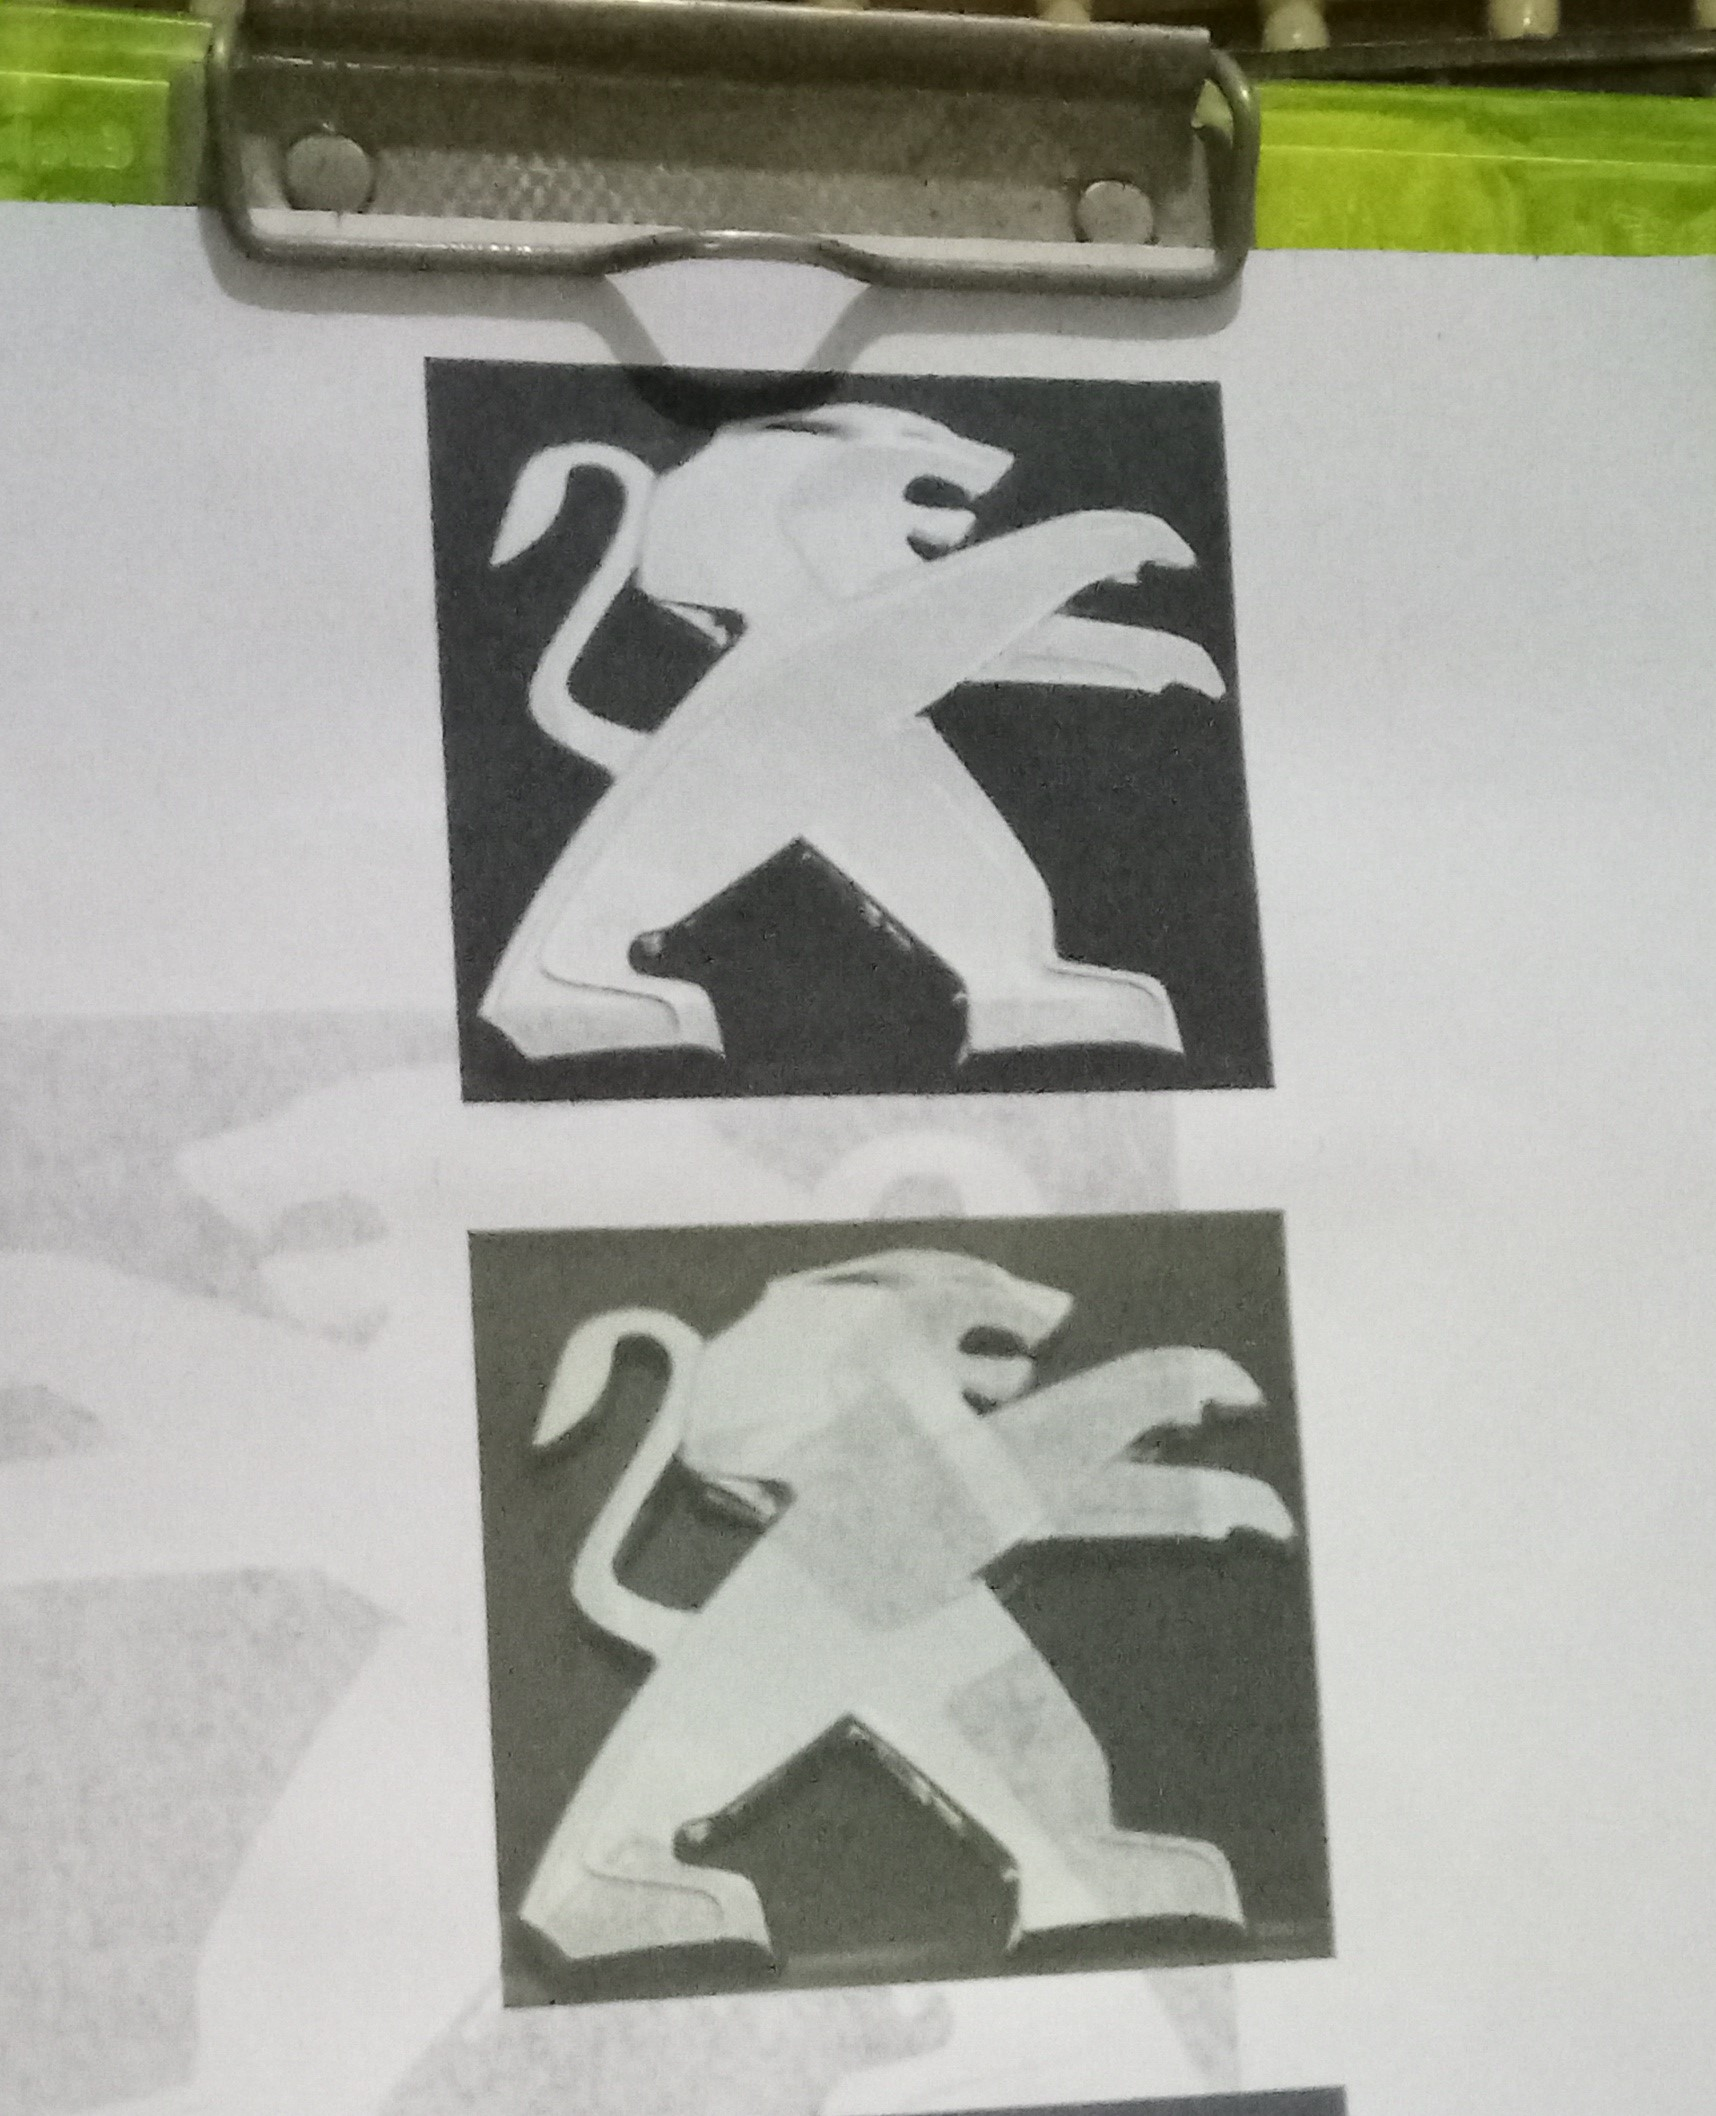Peugeot: (494, 1230, 1306, 1979), (441, 369, 1240, 1082)
